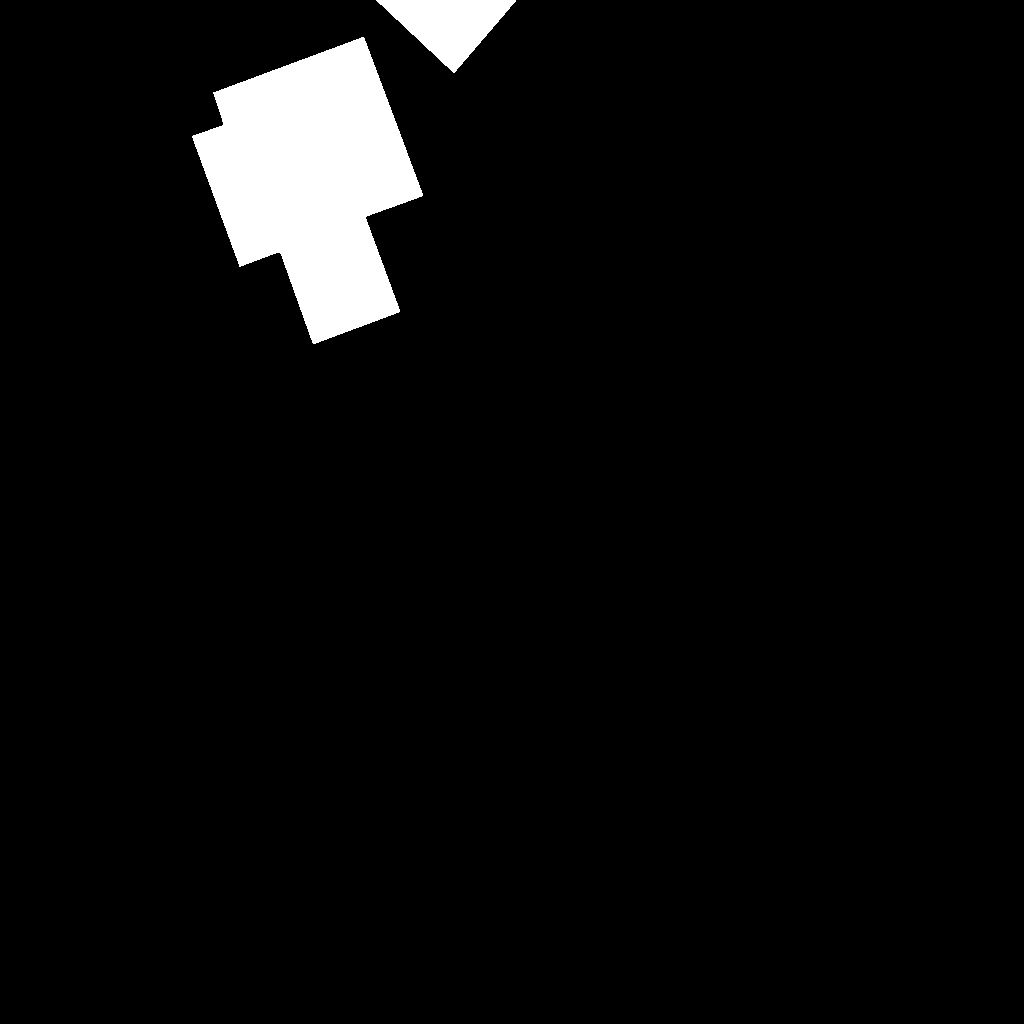building: (192, 37, 424, 345), (376, 0, 518, 74)
